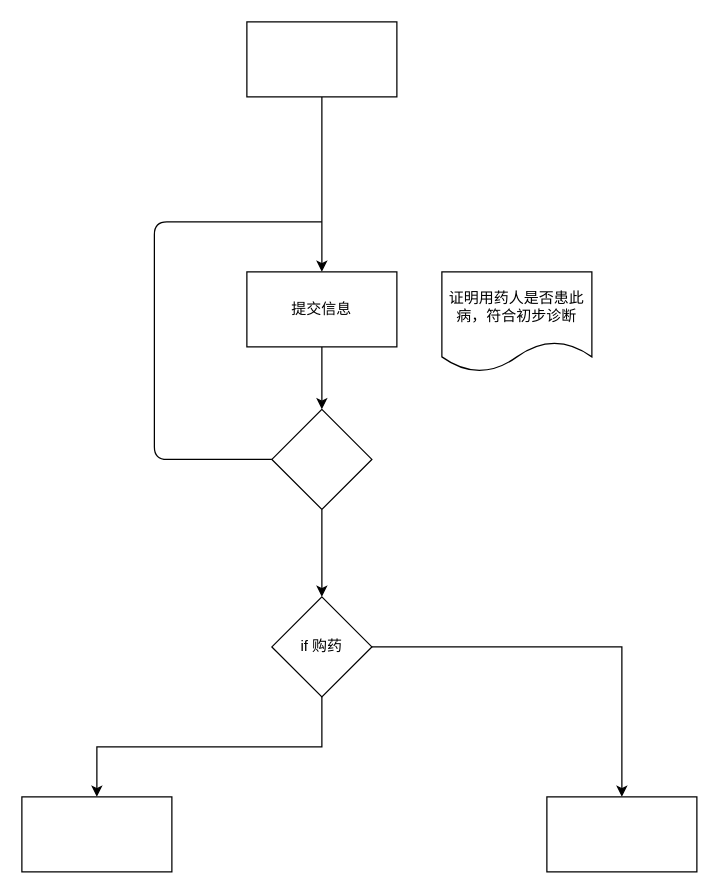
This 719x894 diagram has some shape labels left out. Here are the shapes that lost their labels. From the top down, the box of each, then its label:
(246, 21, 397, 97): 入组
(271, 408, 372, 509): if 通过
